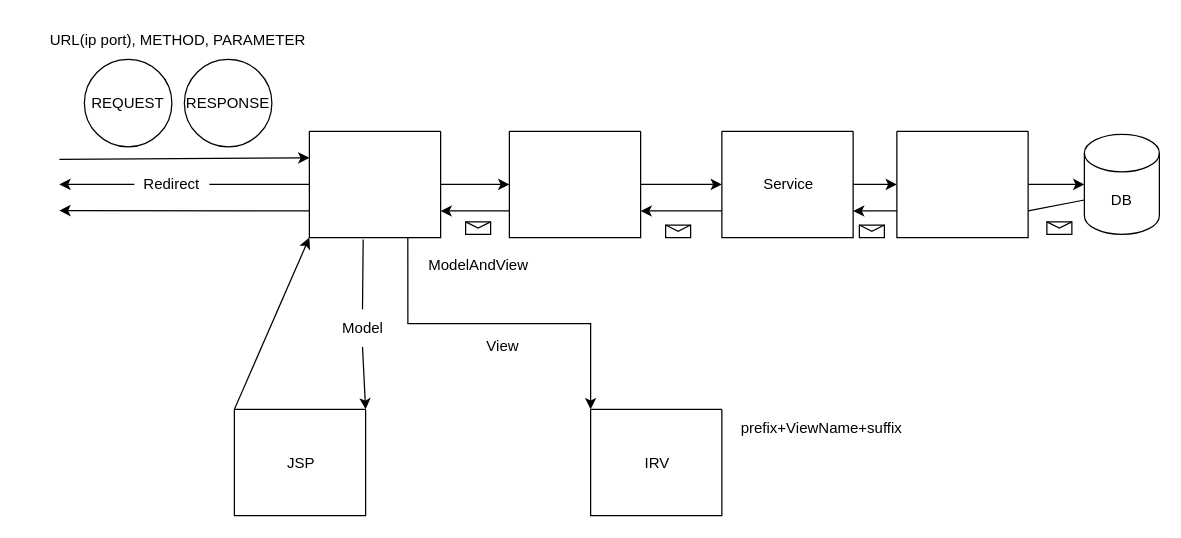
The diagram is 1181 pixels wide and 538 high, and some of its shapes have lost their labels. The shapes that lost their labels are listed below. From the top down, each one's box as (x1, y1, x2, y2) in pixels, then its label:
(308, 130, 441, 238): DS
(508, 130, 641, 238): Controller
(896, 130, 1028, 238): DAO
